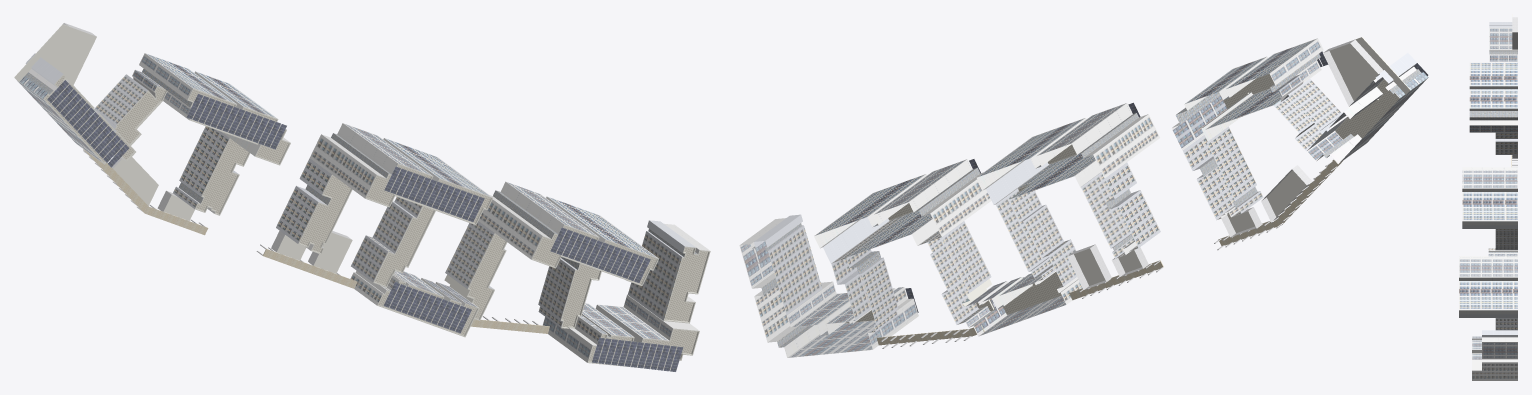
3 renders of one model, left to right at view 1: azimuth 30°, elevation 25°; view 2: azimuth 150°, elevation 25°; view 3: azimuth 270°, elevation 25°, orthographic. The views are drawn at different scales.
Parts seen in each view (by area): view 1: 2.3, 太阳能板2, 2.007, 2.4, 2.008; view 2: 2.3, 2.007, 2.4, 2.008, 2.1; view 3: 2.3, 2.007.
Boxes of the visible parts, bbox=[...] form: 2.3: bbox=[15, 53, 710, 370]; 太阳能板2: bbox=[47, 80, 683, 371]; 2.007: bbox=[37, 23, 194, 220]; 2.4: bbox=[83, 149, 549, 333]; 2.008: bbox=[271, 230, 352, 273]; 2.3: bbox=[739, 38, 1428, 357]; 2.007: bbox=[1220, 39, 1383, 237]; 2.4: bbox=[876, 159, 1343, 345]; 2.008: bbox=[1067, 244, 1148, 289]; 2.1: bbox=[880, 161, 1337, 348]; 2.3: bbox=[1459, 22, 1517, 380]; 2.007: bbox=[1512, 17, 1517, 158].
Size of the model in its own units: 386 by 252 by 61.09.
14 materials, 12 textured.
